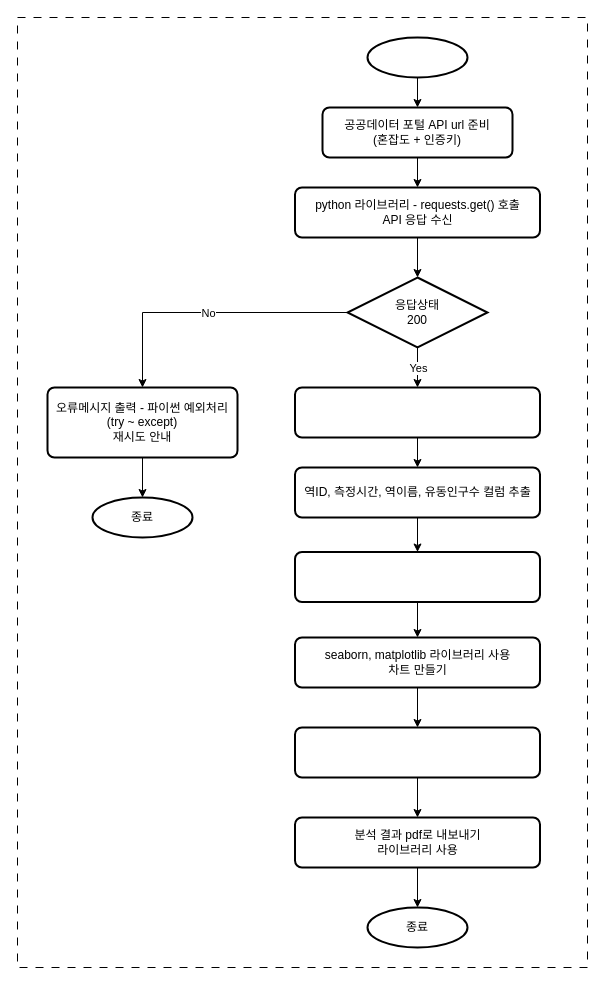
This 605x985 diagram has some shape labels left out. The box of each missing label's shape, as (x1, y1, x2, y2) in pixels:
HTML 이용해서 대시보드 만들기 streamlit 라이브러리 사용: (294, 726, 540, 778)
JSON - pandas 라이브러리 이용 DataFrame 변환: (294, 386, 540, 438)
시작: (366, 36, 468, 78)
전처리 작업 - 결측치 처리, 이상치 삭제: (294, 550, 540, 602)
